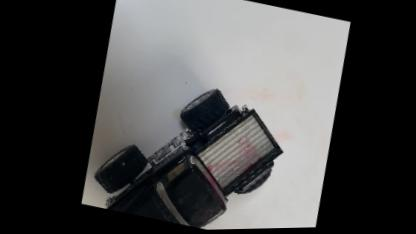black monster truck: (78, 62, 299, 232)
